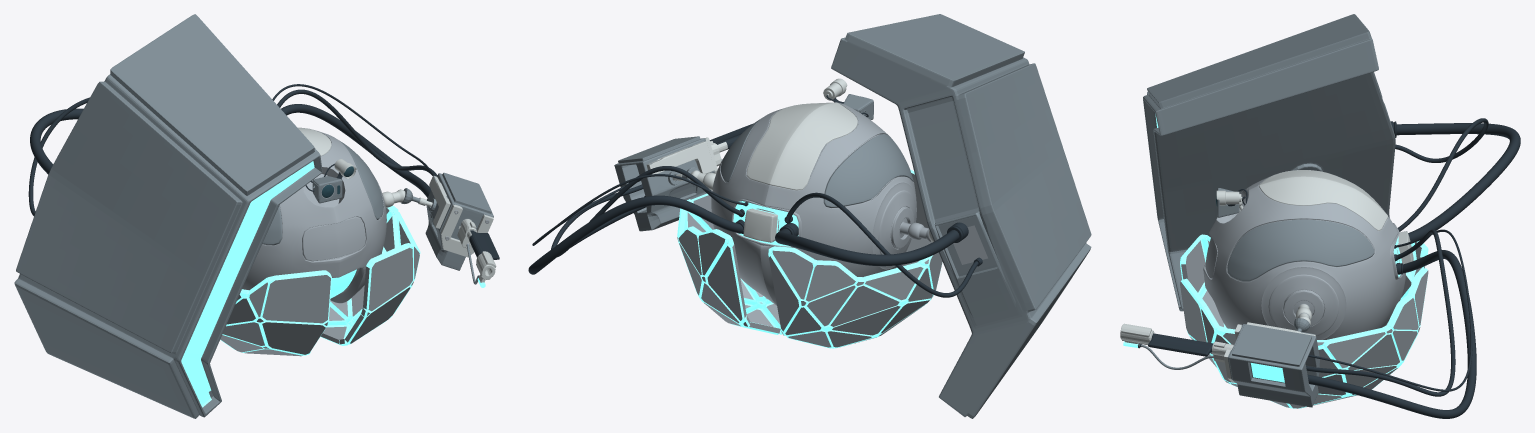
Rendered from bs_burt_drone.fbx.
3 renders of one model, left to right at view 1: azimuth 30°, elevation 25°; view 2: azimuth 150°, elevation 25°; view 3: azimuth 270°, elevation 25°, orthographic. The views are drawn at different scales.
Visible parts, largest first — view 1: bs_burt_drone; view 2: bs_burt_drone; view 3: bs_burt_drone.
Part boxes in pixels (<box>): bs_burt_drone: <box>14,14,499,418</box>; bs_burt_drone: <box>528,14,1091,418</box>; bs_burt_drone: <box>1120,14,1520,418</box>.
Bounding box in the file's own units: 188 × 240 × 168.
